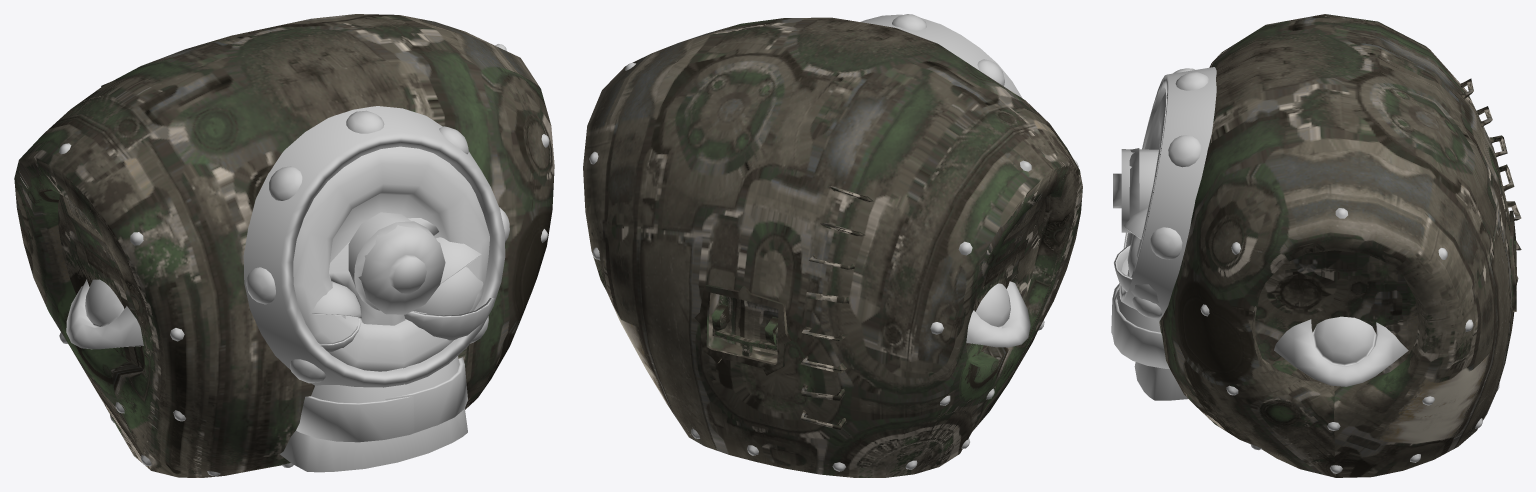
The picture shows the model from 3 angles, left to right: view 1: azimuth 30°, elevation 25°; view 2: azimuth 150°, elevation 25°; view 3: azimuth 270°, elevation 25°; orthographic projection. The views are drawn at different scales.
Visible parts, largest first — view 1: Chest, neck, head, feetR, ruparm, feetL; view 2: Chest, neck, ruparm; view 3: Chest, neck, luparm, head, feetL.
Part boxes in pixels (x1,y1,x2,y2): Chest: [14, 14, 554, 477]; neck: [59, 44, 549, 476]; head: [280, 218, 494, 472]; feetR: [296, 368, 430, 442]; ruparm: [66, 279, 143, 349]; feetL: [385, 356, 467, 431]; Chest: [583, 17, 1082, 477]; neck: [589, 14, 1078, 471]; ruparm: [966, 281, 1030, 347]; Chest: [1159, 14, 1521, 477]; neck: [1113, 67, 1499, 473]; luparm: [1274, 316, 1408, 386]; head: [1114, 207, 1187, 400]; feetL: [1112, 289, 1169, 368].
Bounding box in the file's own units: 10.88 × 9.63 × 9.33.
